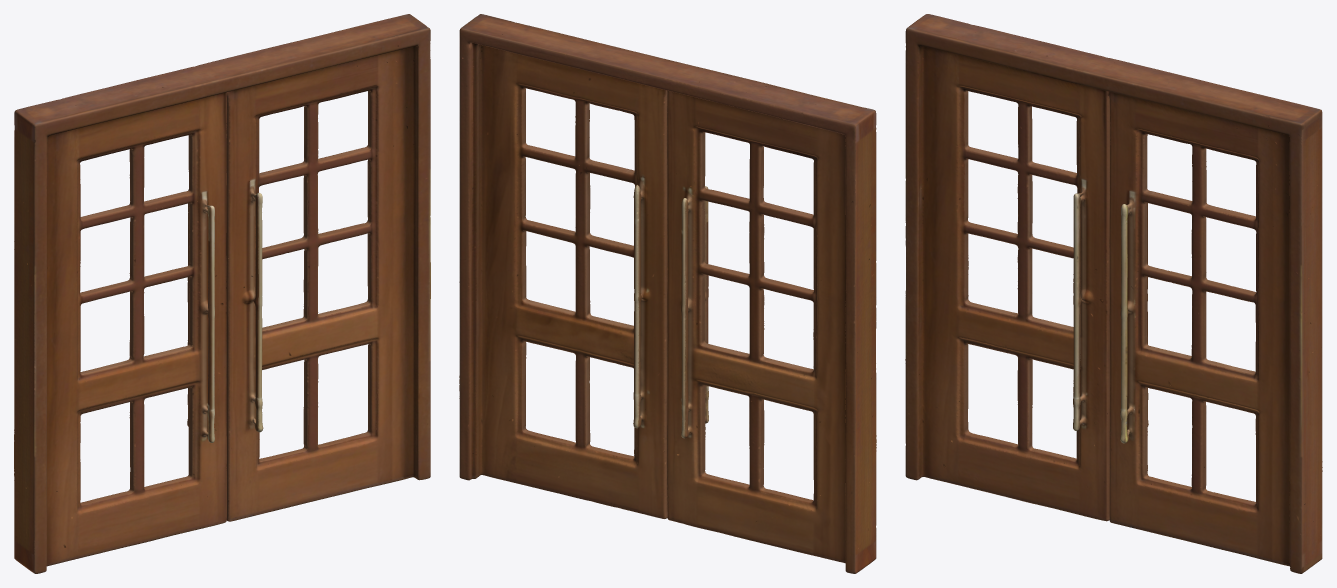
File: Double French Doors.glb
3 views of the same model, side by side, from view 1: azimuth 30°, elevation 25°; view 2: azimuth 150°, elevation 25°; view 3: azimuth 330°, elevation 25° (orthographic).
Size of the model in its own units: 1.85 by 2 by 0.2108.
1 material, 1 textured.
